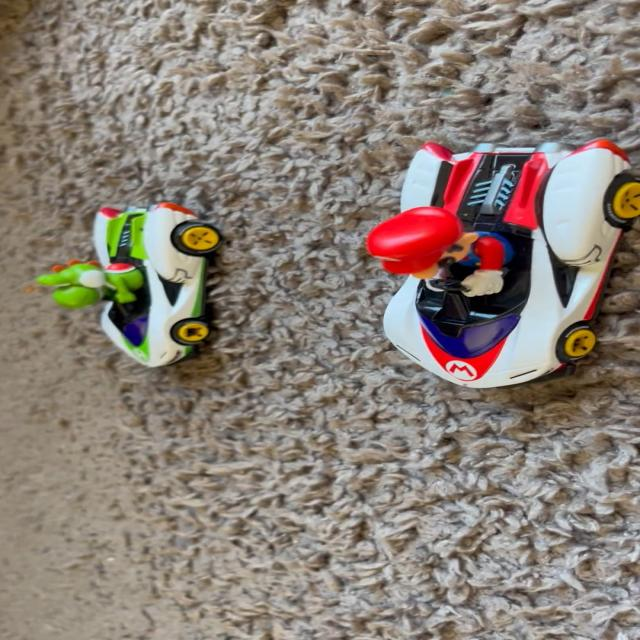mario: (359, 150, 636, 398)
yoshi: (15, 175, 234, 394)
